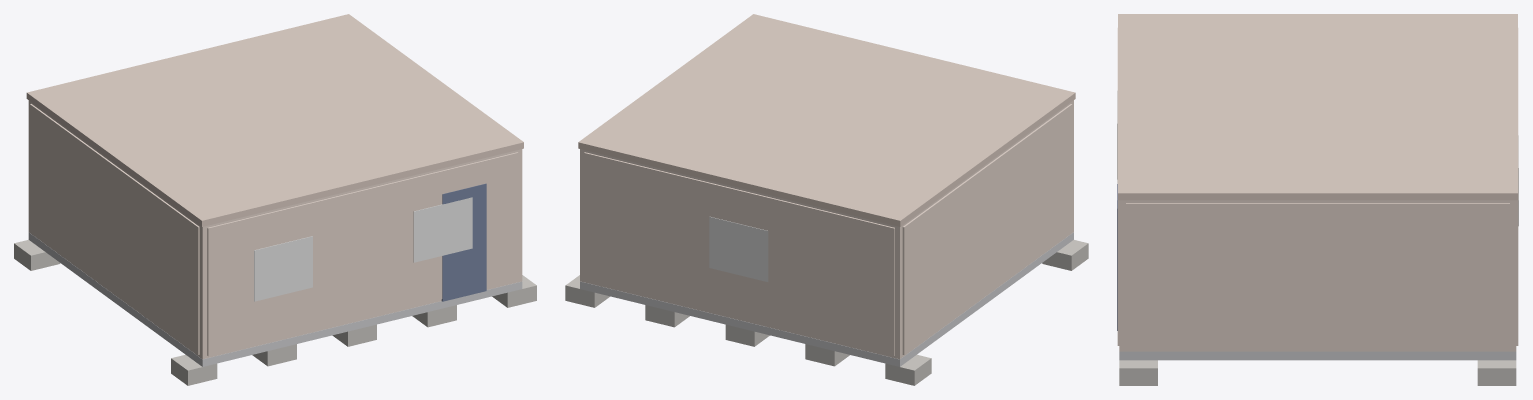
The model's file is Studio-20-Base-Mauve-LOD3.glb.
The picture shows the model from 3 angles, left to right: view 1: azimuth 30°, elevation 25°; view 2: azimuth 150°, elevation 25°; view 3: azimuth 270°, elevation 25°; orthographic projection. The views are drawn at different scales.
Visible parts, largest first — view 1: RoofMain, ExteriorPanelsStandard, WindowsStandard, FoundationBlocks, ExteriorShell, BaseFrame, EntryDoor; view 2: ExteriorPanelsStandard, RoofMain, FoundationBlocks, BaseFrame, ExteriorShell, WindowsStandard; view 3: RoofMain, ExteriorPanelsStandard, ExteriorShell, BaseFrame, FoundationBlocks.
Boxes of the visible parts, x1,y1,x2,y2 form: RoofMain: (26,14,523,226); ExteriorPanelsStandard: (30,104,518,355); WindowsStandard: (254,197,472,301); FoundationBlocks: (14,240,536,385); ExteriorShell: (28,100,522,359); BaseFrame: (28,232,522,366); EntryDoor: (441,183,486,301); ExteriorPanelsStandard: (584,104,1072,355); RoofMain: (578,14,1075,226); FoundationBlocks: (565,240,1088,385); BaseFrame: (580,232,1073,366); ExteriorShell: (580,100,1073,359); WindowsStandard: (709,216,768,281); RoofMain: (1118,14,1517,200); ExteriorPanelsStandard: (1117,28,1518,349); ExteriorShell: (1119,200,1516,351); BaseFrame: (1119,351,1516,360); FoundationBlocks: (1119,360,1516,385).
Size of the model in its own units: 7.14 by 3.17 by 6.24.
